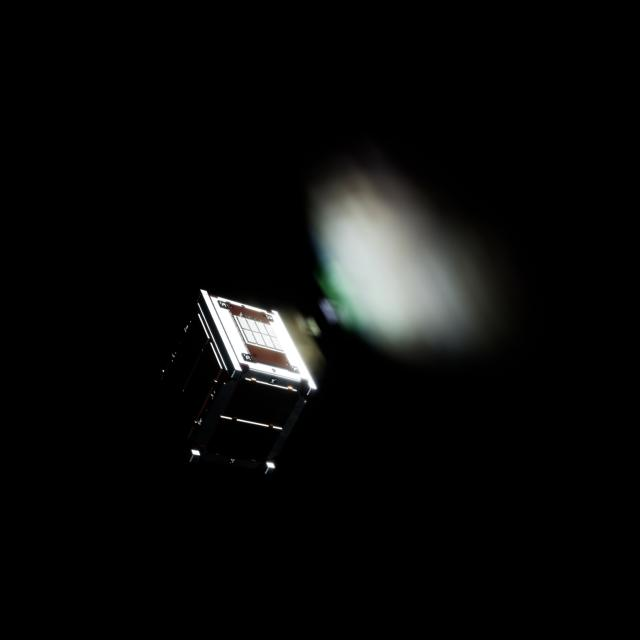satellite: (165, 289, 318, 484)
